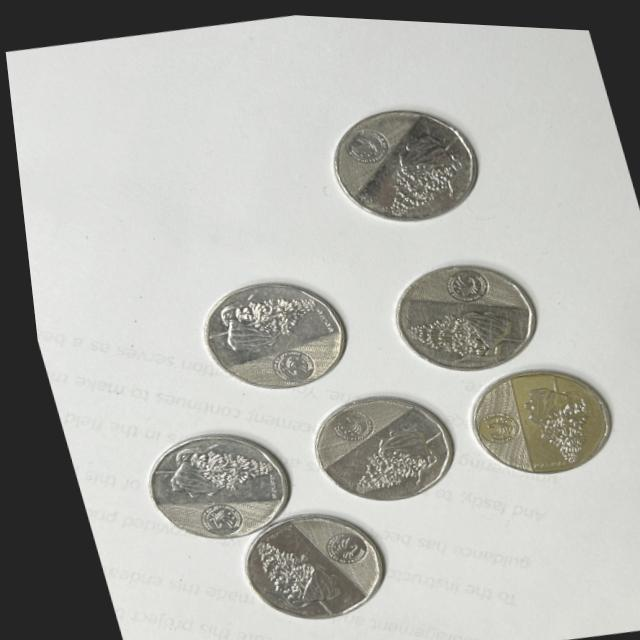10_New_Back: (137, 430, 267, 519), (364, 117, 480, 216), (504, 365, 602, 464), (394, 289, 523, 364), (226, 522, 337, 608), (186, 279, 322, 349), (318, 418, 436, 494)
